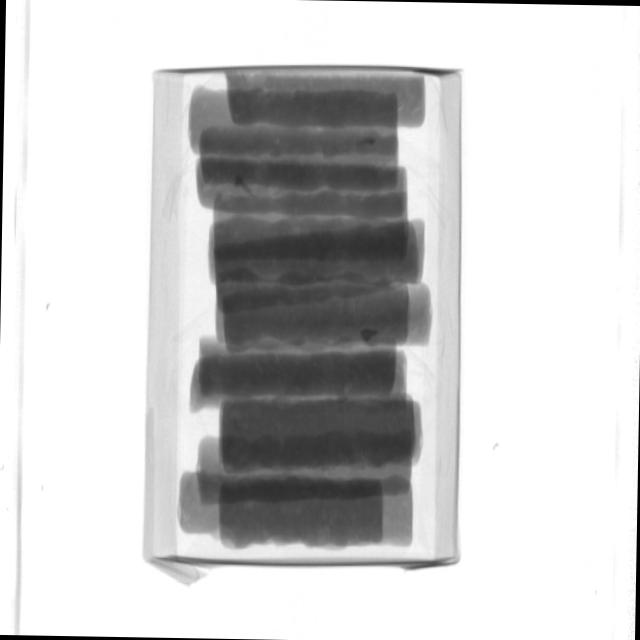ym: (236, 175, 255, 194), (360, 328, 379, 343), (355, 138, 377, 148)
